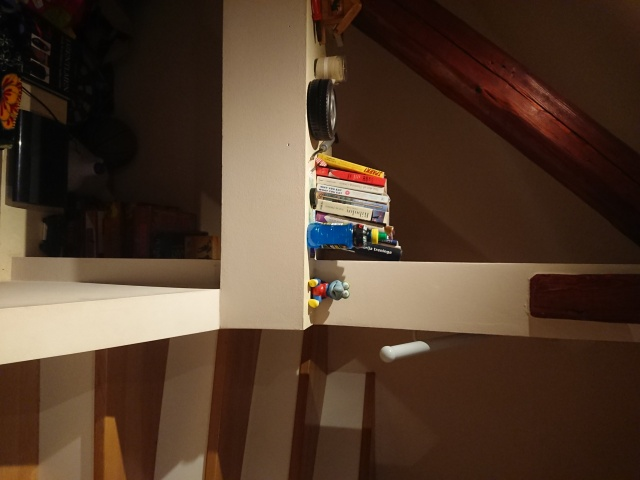Vindi Iso Sport Forest Strawberries 500mL: (305, 221, 387, 249)
